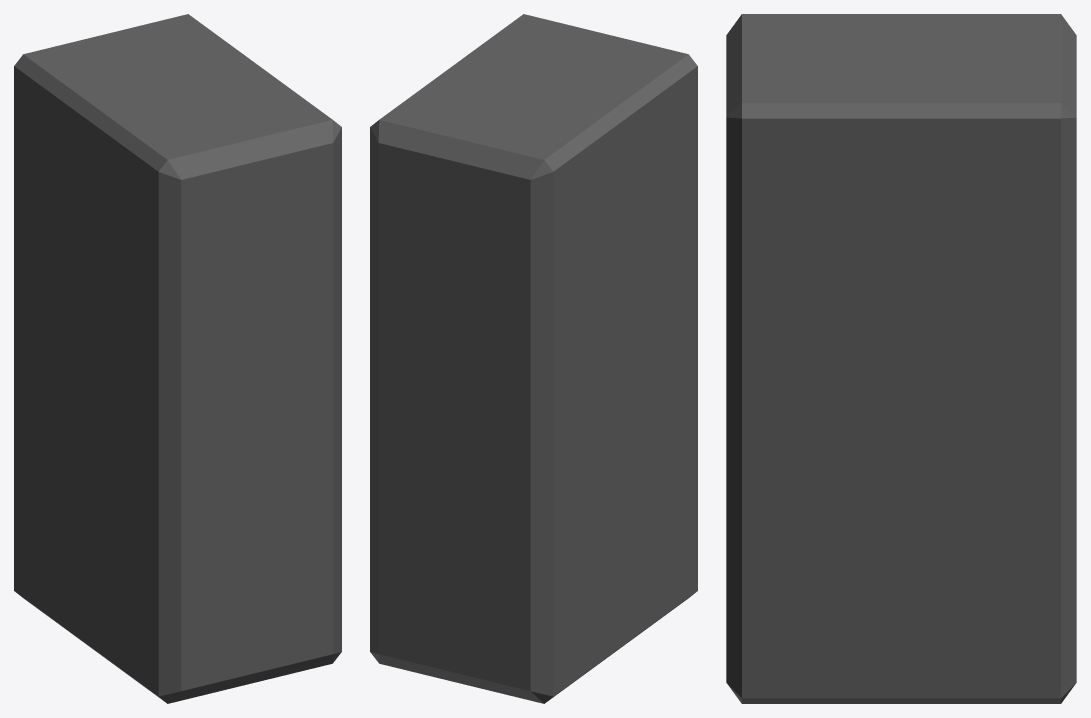
Rendered from Doorway_5_doorway_door_5_0.obj.
3 renders of one model, left to right at view 1: azimuth 30°, elevation 25°; view 2: azimuth 150°, elevation 25°; view 3: azimuth 270°, elevation 25°, orthographic. The views are drawn at different scales.
Size of the model in its own units: 0.06 by 0.17 by 0.0899.
